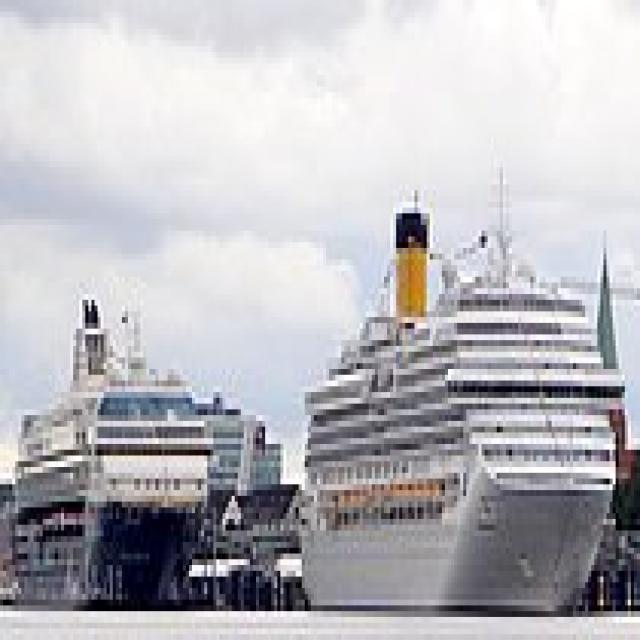Ship: (290, 186, 632, 630), (7, 284, 233, 601)
